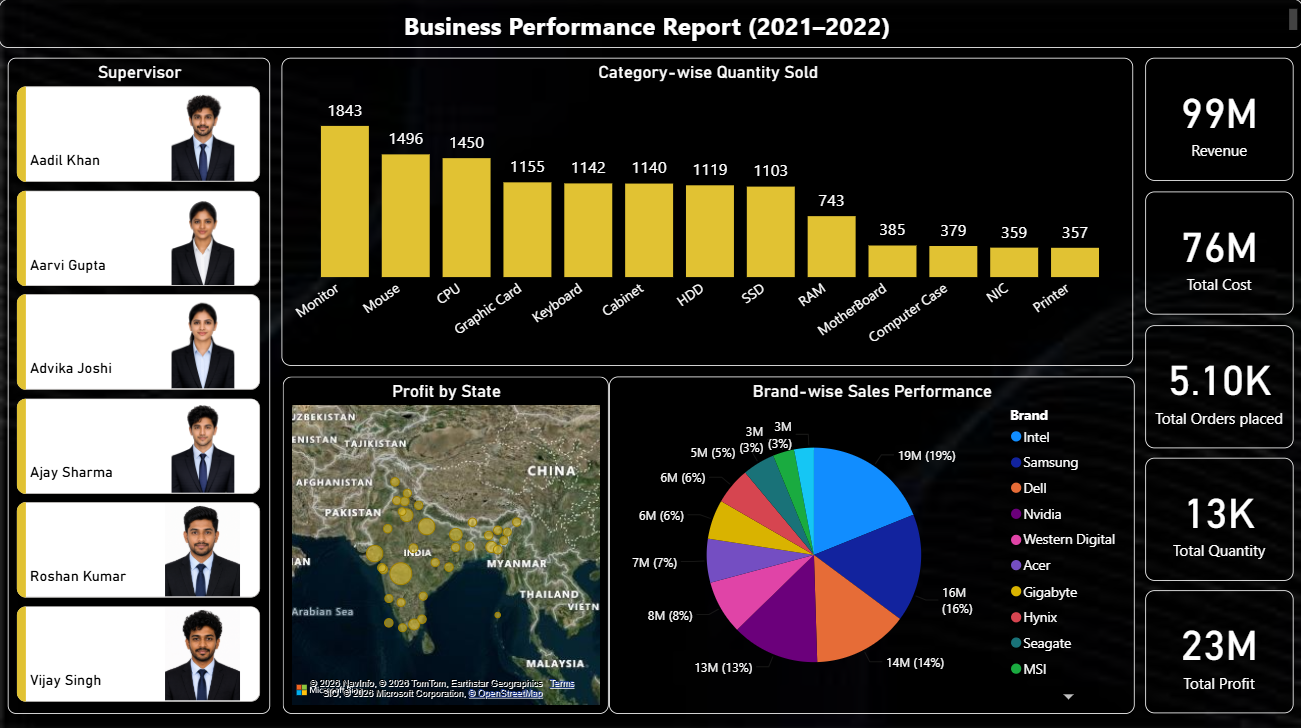

What the dashboard file says about the page in this screenshot:
{"tool":"powerbi","page":{"name":"Dashboard","canvas":[1280,720],"ordinal":0},"visuals":[{"type":"card","fields":{"Values":["Sum(Sales_Data.Total_Sales)"]},"box":[1125.2,57.6,145.5,120.8],"z":0},{"type":"textbox","box":[0,0,1280.3,48],"z":1000},{"type":"card","fields":{"Values":["Sum(Sales_Data.Total_Cost)"]},"box":[1125.2,189.4,145.5,120.8],"z":2000},{"type":"card","fields":{"Values":["CountNonNull(Sales_Data.Order_Number)"]},"box":[1125.2,319.7,145.5,120.8],"z":3000},{"type":"card","fields":{"Values":["Sum(Sales_Data.Quantity)"]},"box":[1125.2,450.1,145.5,120.8],"z":4000},{"type":"card","fields":{"Values":["Sum(Sales_Data.Profit)"]},"box":[1125.2,580.4,145.5,120.8],"z":5000},{"type":"clusteredColumnChart","title":"Category-wise Quantity Sold","fields":{"Category":["Sales_Data.Category"],"Y":["Sum(Sales_Data.Quantity)"]},"box":[277.5,57.5,836.2,302.5],"z":6000},{"type":"pieChart","title":"Brand-wise Sales Performance","fields":{"Category":["Sales_Data.Brand"],"Y":["Sum(Sales_Data.Total_Sales)"]},"box":[598.6,370,515.7,331.4],"z":7000},{"type":"advancedSlicerVisual","fields":{"Values":["Supervisor.Supervisor"]},"box":[8.8,57.5,257.5,643.8],"z":8000},{"type":"map","title":"Profit by State","fields":{"Category":["State_list.State"],"Size":["Sum(Sales_Data.Profit)"]},"box":[278.5,370.6,320.2,331.3],"z":9000}]}

Visuals, with their boxes in screenshot pixels (x1, y1, x2, y2), scaled from the page's 1280x720 canvas onto the 1301x728 screenshot:
card - Sum(Sales_Data.Total_Sales): {"x1": 1144, "y1": 58, "x2": 1292, "y2": 180}
textbox: {"x1": 0, "y1": 0, "x2": 1300, "y2": 49}
card - Sum(Sales_Data.Total_Cost): {"x1": 1144, "y1": 192, "x2": 1292, "y2": 314}
card - CountNonNull(Sales_Data.Order_Number): {"x1": 1144, "y1": 323, "x2": 1292, "y2": 445}
card - Sum(Sales_Data.Quantity): {"x1": 1144, "y1": 455, "x2": 1292, "y2": 577}
card - Sum(Sales_Data.Profit): {"x1": 1144, "y1": 587, "x2": 1292, "y2": 709}
"Category-wise Quantity Sold" clusteredColumnChart: {"x1": 282, "y1": 58, "x2": 1132, "y2": 364}
"Brand-wise Sales Performance" pieChart: {"x1": 608, "y1": 374, "x2": 1133, "y2": 709}
advancedSlicerVisual - Supervisor.Supervisor: {"x1": 9, "y1": 58, "x2": 271, "y2": 709}
"Profit by State" map: {"x1": 283, "y1": 375, "x2": 609, "y2": 710}
